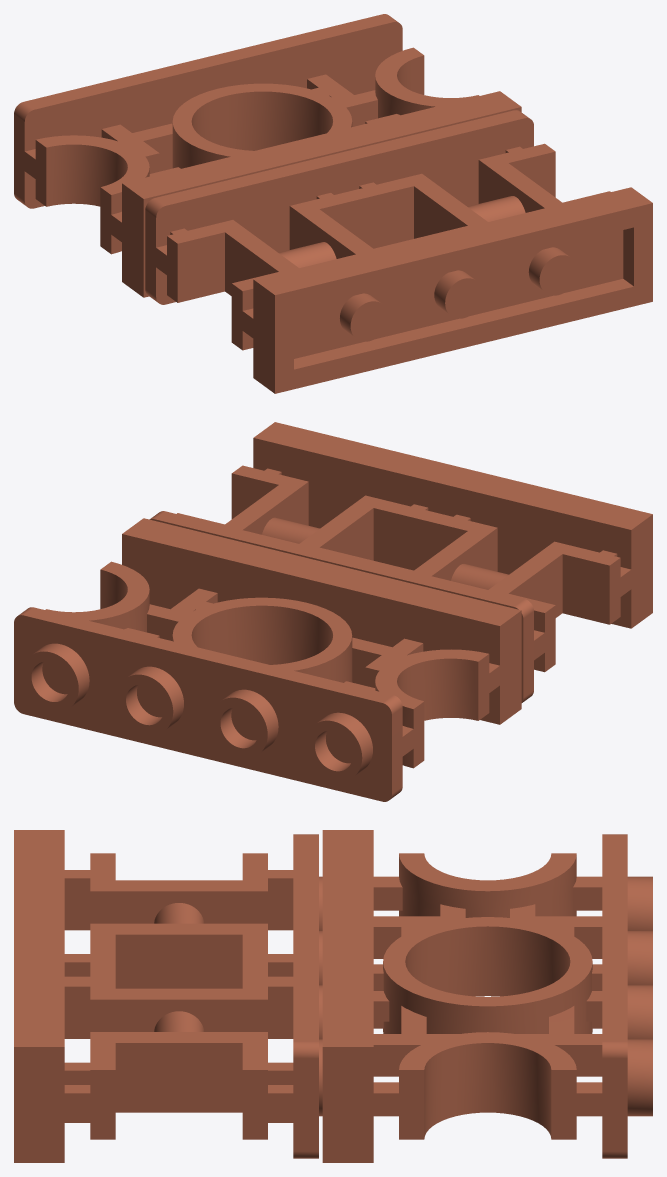
Rendered from ladrillos.dae.
The picture shows the model from 3 angles, top to bottom: view 1: azimuth 30°, elevation 25°; view 2: azimuth 150°, elevation 25°; view 3: azimuth 270°, elevation 25°; orthographic projection. The views are drawn at different scales.
Parts seen in each view (by area): view 1: Inner-Node-palmera___28_1_29__dot_io-1, Inner-Node-palmera___28_1_29__dot_io-0; view 2: Inner-Node-palmera___28_1_29__dot_io-0, Inner-Node-palmera___28_1_29__dot_io-1; view 3: Inner-Node-palmera___28_1_29__dot_io-0, Inner-Node-palmera___28_1_29__dot_io-1.
Part boxes in pixels (left/top/right/bottom): Inner-Node-palmera___28_1_29__dot_io-1: left=145, top=110, right=652, bottom=393; Inner-Node-palmera___28_1_29__dot_io-0: left=14, top=14, right=521, bottom=297; Inner-Node-palmera___28_1_29__dot_io-0: left=14, top=518, right=521, bottom=801; Inner-Node-palmera___28_1_29__dot_io-1: left=149, top=422, right=652, bottom=702; Inner-Node-palmera___28_1_29__dot_io-0: left=322, top=830, right=652, bottom=1162; Inner-Node-palmera___28_1_29__dot_io-1: left=14, top=830, right=322, bottom=1162.
Bounding box in the file's own units: 79.75 × 19.9 × 99.35.
